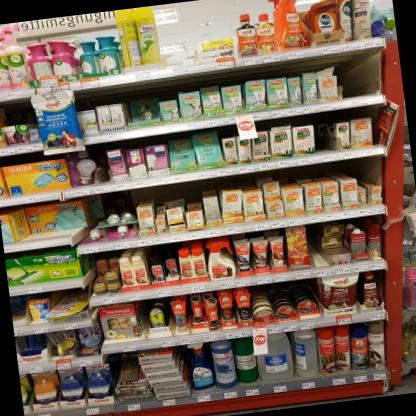empty_space: (339, 58, 382, 101), (315, 128, 338, 156)
